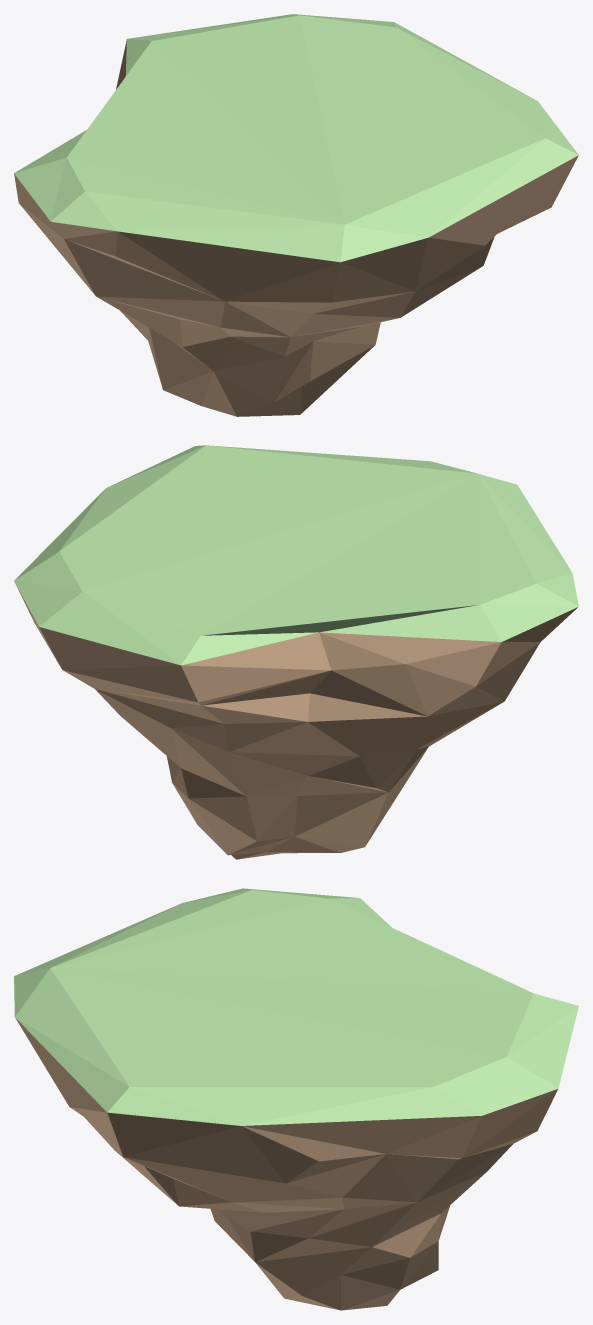
The model's file is island1_Green.fbx.
3 views of the same model, one above another, from view 1: azimuth 30°, elevation 25°; view 2: azimuth 150°, elevation 25°; view 3: azimuth 270°, elevation 25° (orthographic). The views are drawn at different scales.
Parts seen in each view (by area): view 1: island1; view 2: island1; view 3: island1.
Part boxes in pixels (left/top/right/bottom): island1: left=14, top=14, right=578, bottom=416; island1: left=14, top=445, right=578, bottom=859; island1: left=14, top=888, right=578, bottom=1310.
Bounding box in the file's own units: 34.87 × 20.63 × 34.69.
